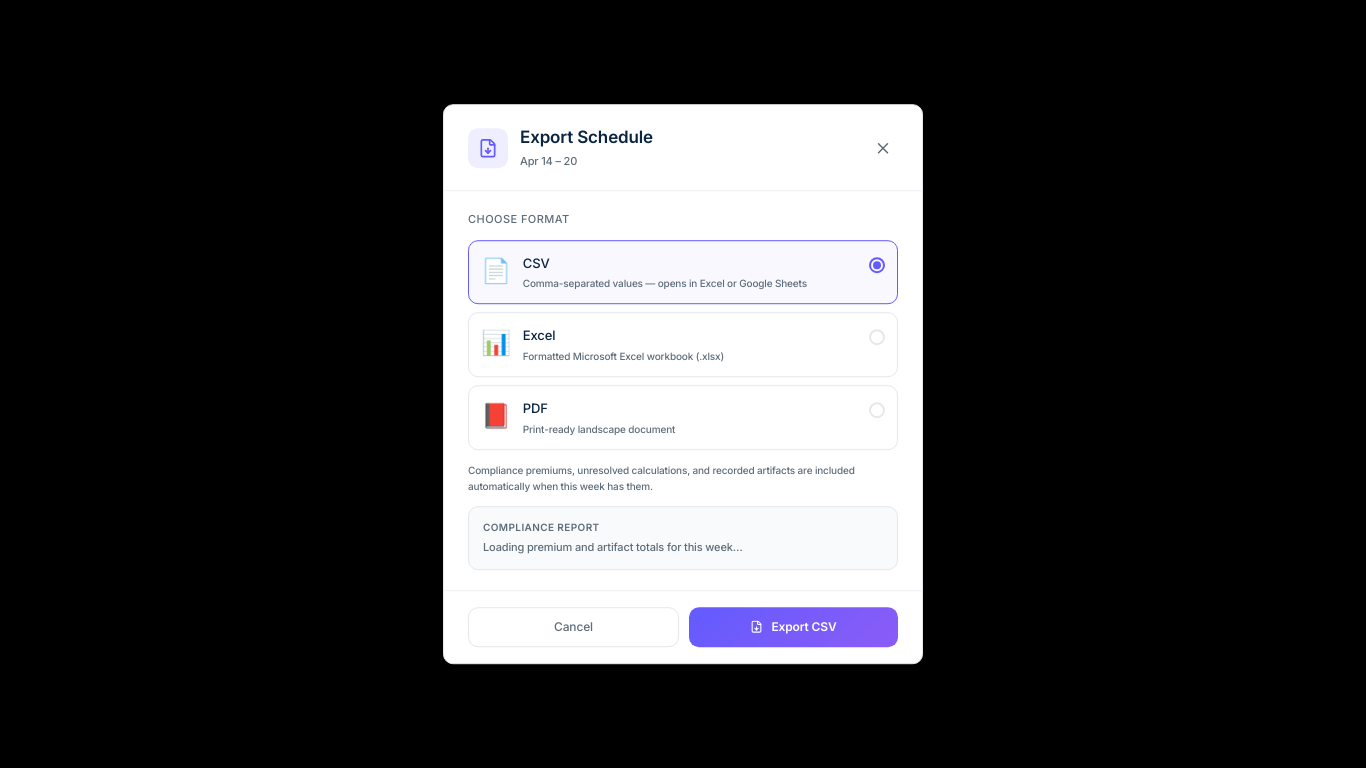
Scenario: ExportScheduleModal — format selection › switching format updates the button label back when re-selecting CSV
Click the text "PDF".
click(535, 408)  # box [523, 400, 548, 416]
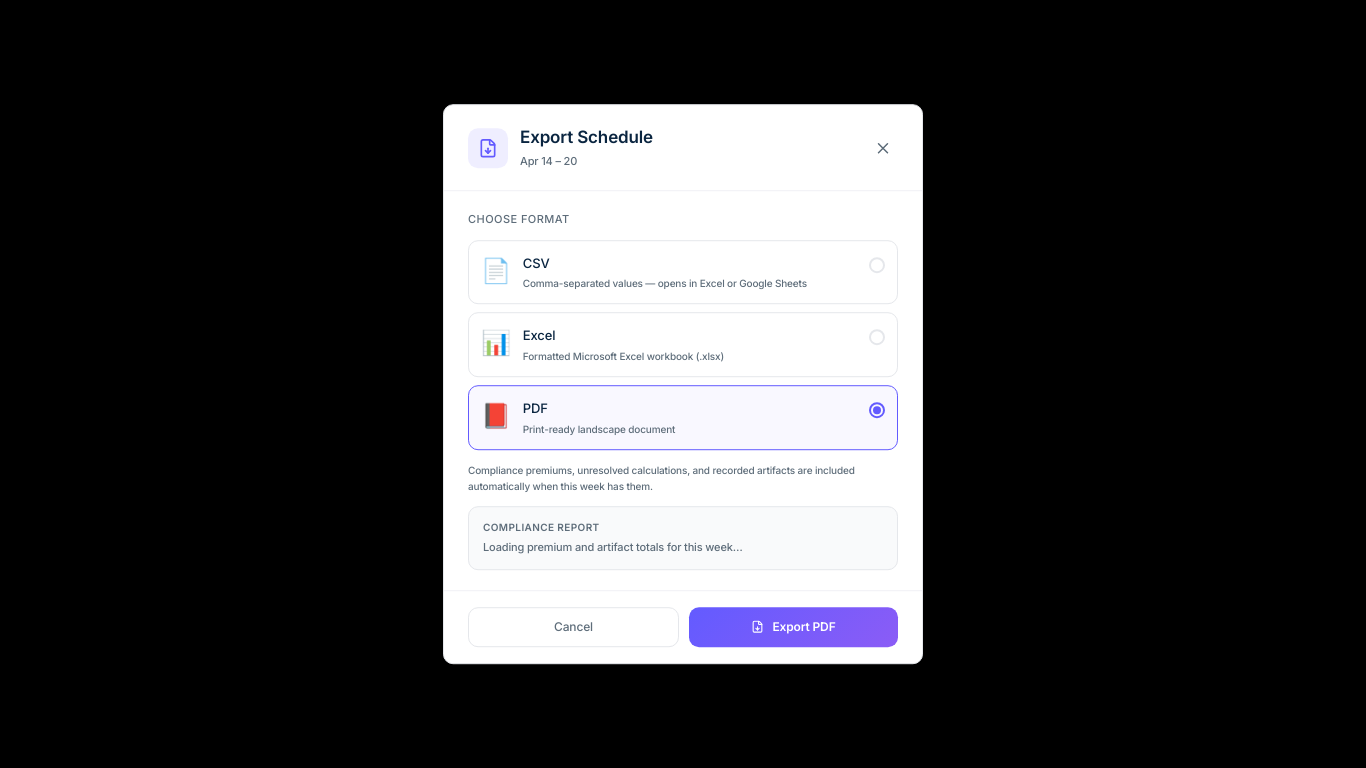
Click the text "CSV".
click(536, 263)  # box [523, 255, 550, 271]
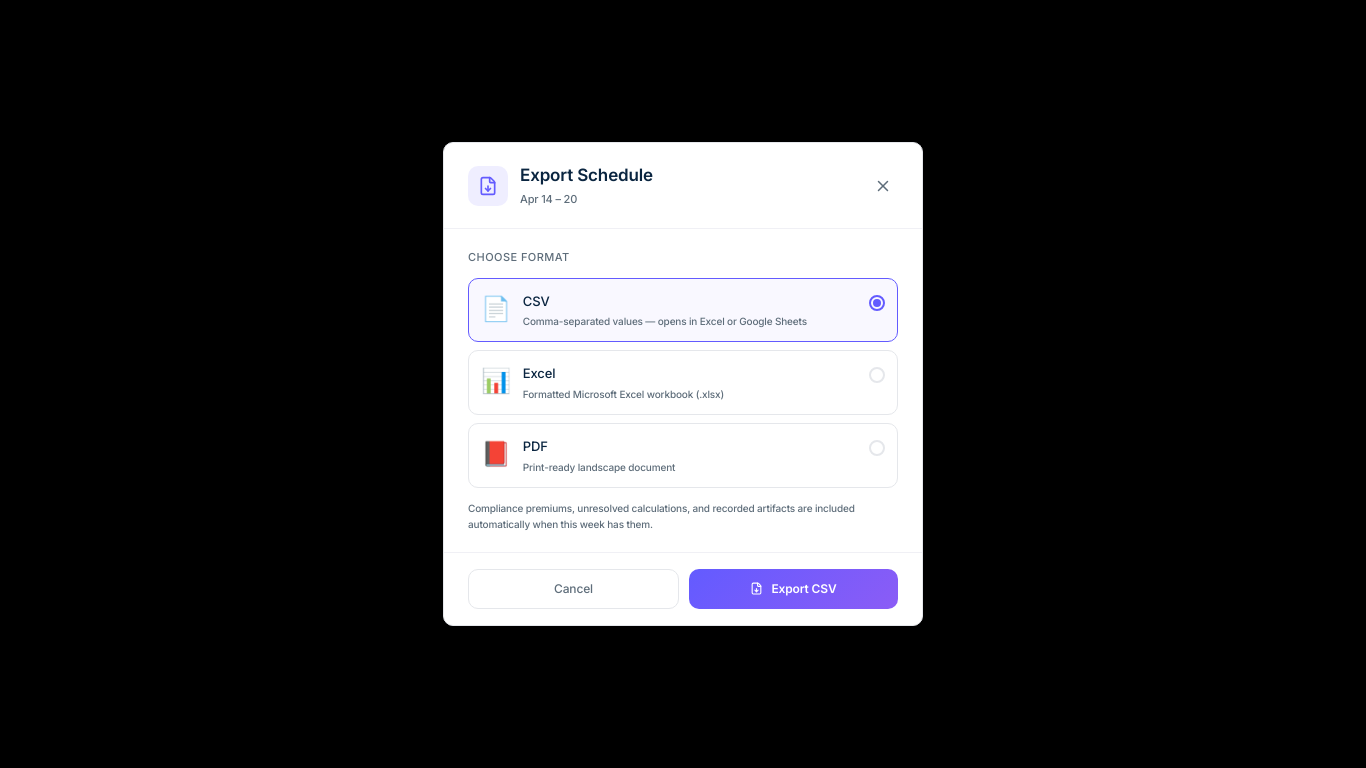
Now the button "Export CSV" is shown, box [689, 569, 898, 609]
